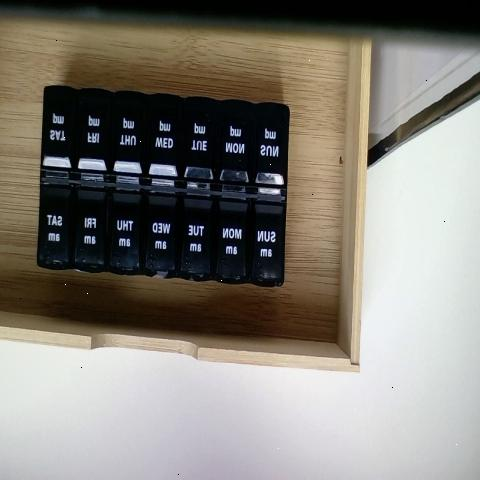FRI-am: (73, 182, 107, 269)
FRI-pm: (77, 86, 112, 170)
MON-am: (213, 200, 250, 283)
MON-pm: (218, 105, 256, 190)
SAT-am: (39, 174, 75, 264)
SAT-pm: (43, 80, 76, 163)
SUN-am: (250, 203, 284, 289)
SUN-pm: (256, 109, 290, 196)
THU-am: (107, 186, 143, 274)
THU-pm: (114, 90, 146, 174)
TUE-am: (181, 199, 214, 278)
TUE-pm: (182, 103, 220, 187)
WED-am: (145, 191, 180, 277)
WED-pm: (148, 93, 183, 177)
